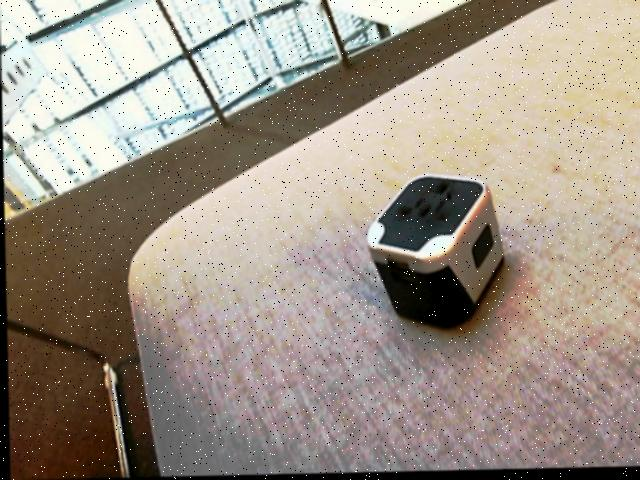adapter: (363, 173, 504, 332)
